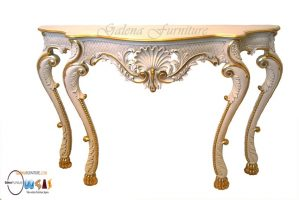Carving Table: (37, 15, 277, 200)
